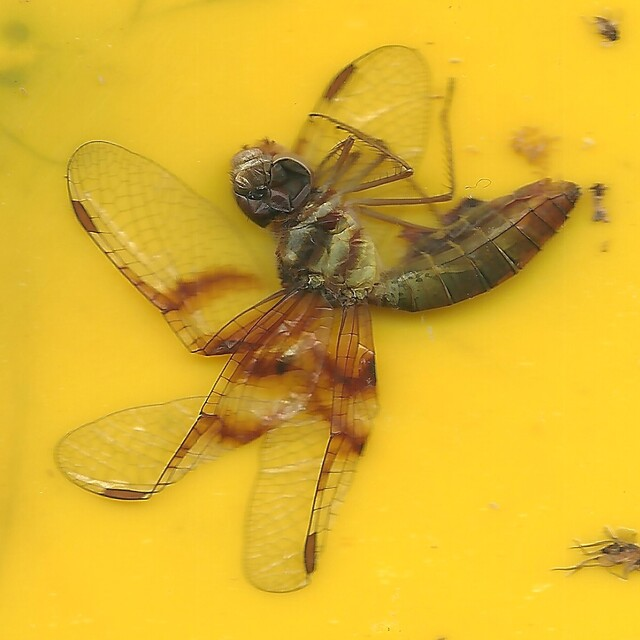Odonata: (53, 47, 587, 593)
